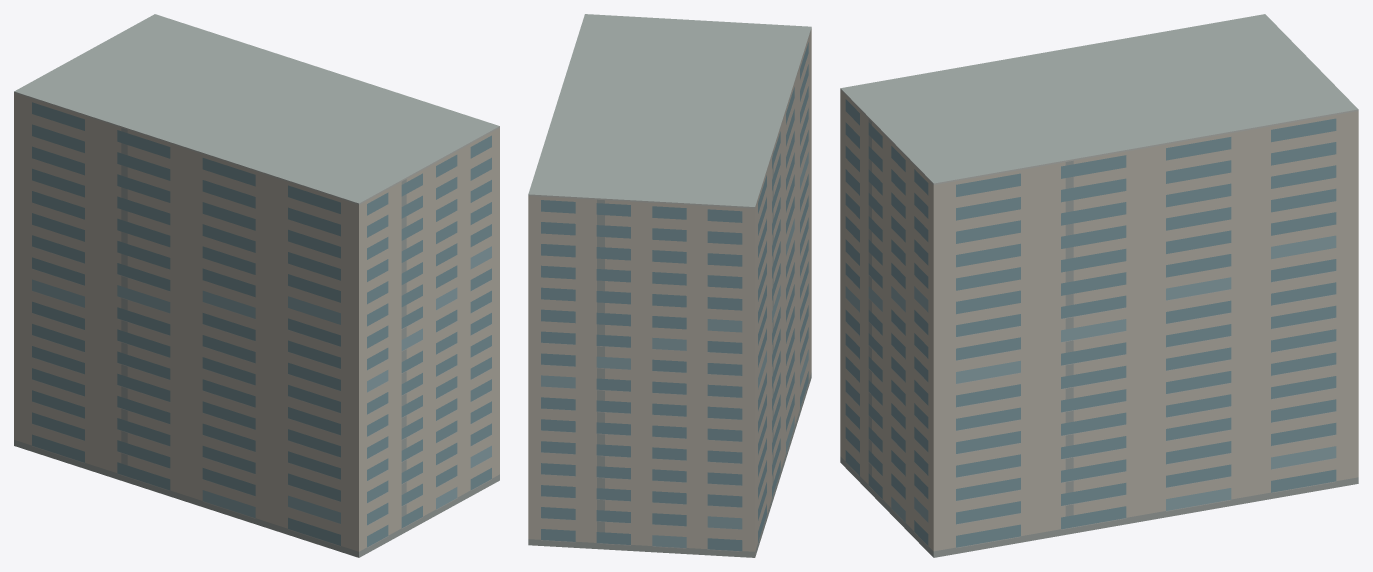
File: residential-7b805ac2-a35f-4e5e-8cd4-647edb7ed3c9.glb
3 views of the same model, side by side, from view 1: azimuth 30°, elevation 25°; view 2: azimuth 150°, elevation 25°; view 3: azimuth 270°, elevation 25° (orthographic). The views are drawn at different scales.
Visible parts, largest first — view 1: residential-7b805ac2-a35f-4e5e-8cd4-647edb7ed3c9.tmp; view 2: residential-7b805ac2-a35f-4e5e-8cd4-647edb7ed3c9.tmp; view 3: residential-7b805ac2-a35f-4e5e-8cd4-647edb7ed3c9.tmp.
Boxes of the visible parts, bbox=[...] form: residential-7b805ac2-a35f-4e5e-8cd4-647edb7ed3c9.tmp: bbox=[14, 14, 499, 557]; residential-7b805ac2-a35f-4e5e-8cd4-647edb7ed3c9.tmp: bbox=[528, 14, 811, 557]; residential-7b805ac2-a35f-4e5e-8cd4-647edb7ed3c9.tmp: bbox=[840, 14, 1358, 557].
Bounding box in the file's own units: 56.33 × 58 × 72.75.
